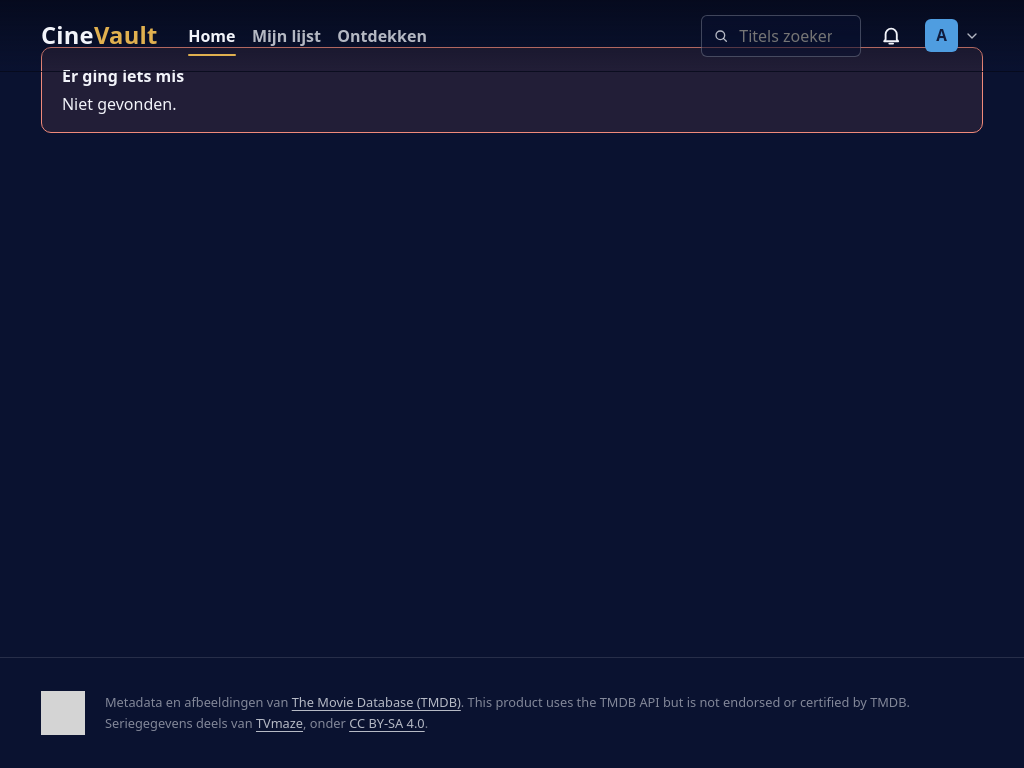
signing in › shows the admin pages only to admins
Click the button named "Profiel van Anna": (952, 36) [922,16,983,56]
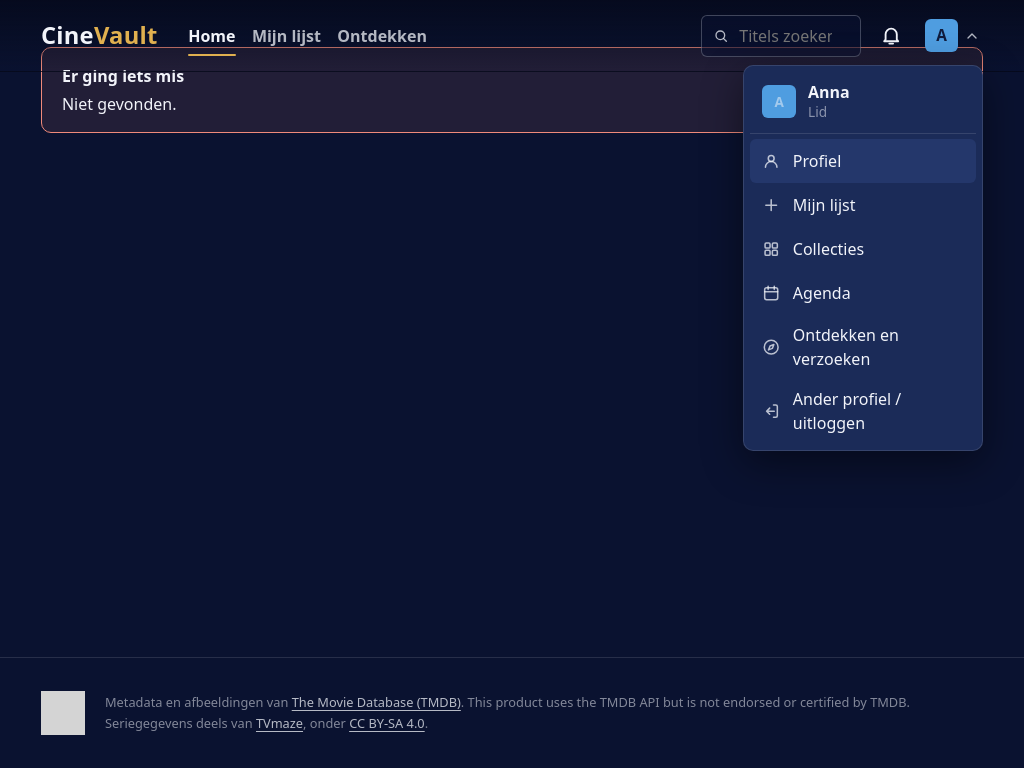
Expected: the menu item "Profiel" is shown, [750,139,976,183]
Click the menu item "Ander profiel / uitloggen": (863, 411) [750,379,976,443]
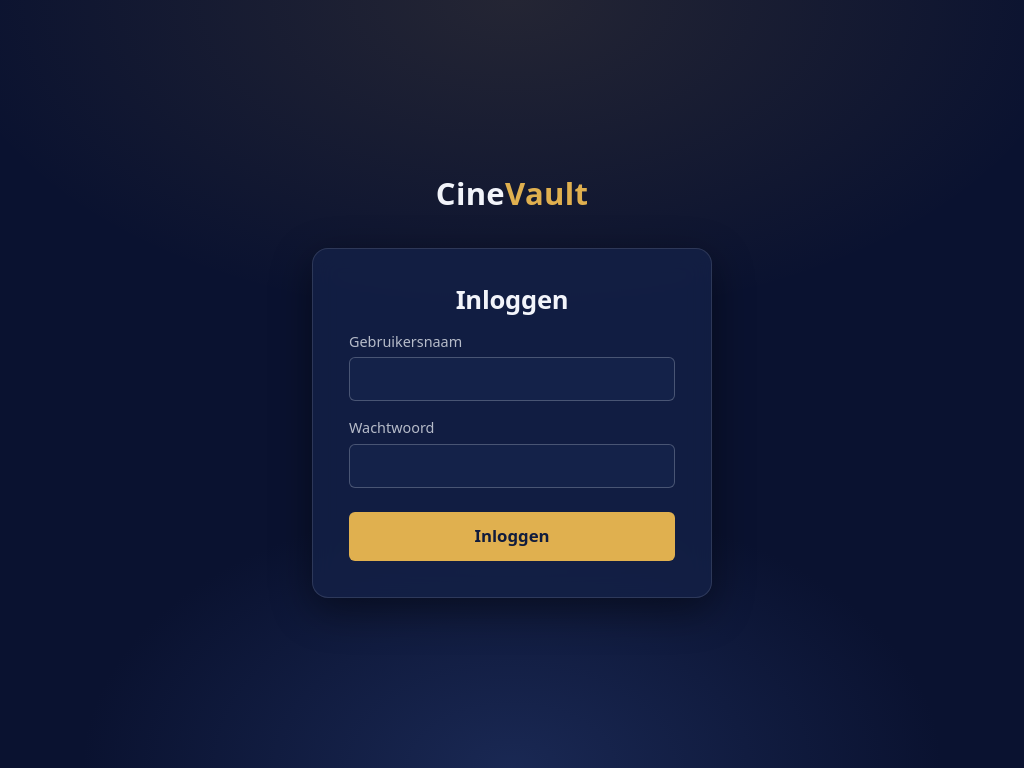
Expected: the heading "Inloggen" is shown, [456,282,568,317]
